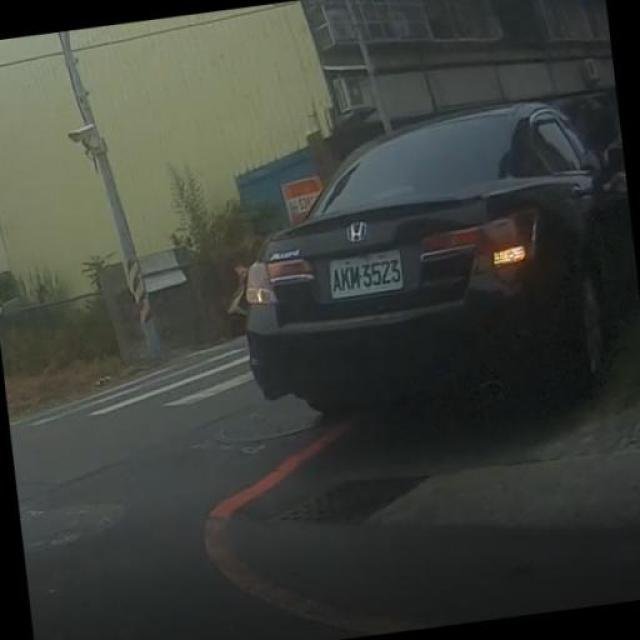illegalparking: (176, 92, 626, 468)
